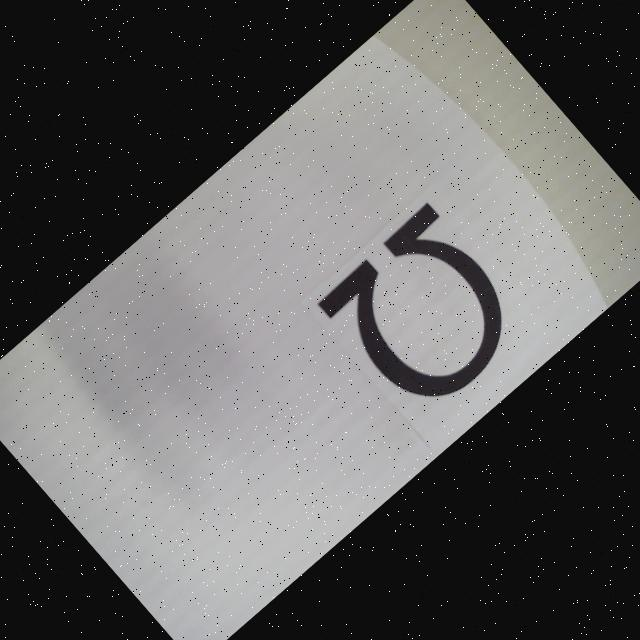OMEGA: (315, 202, 536, 424)
